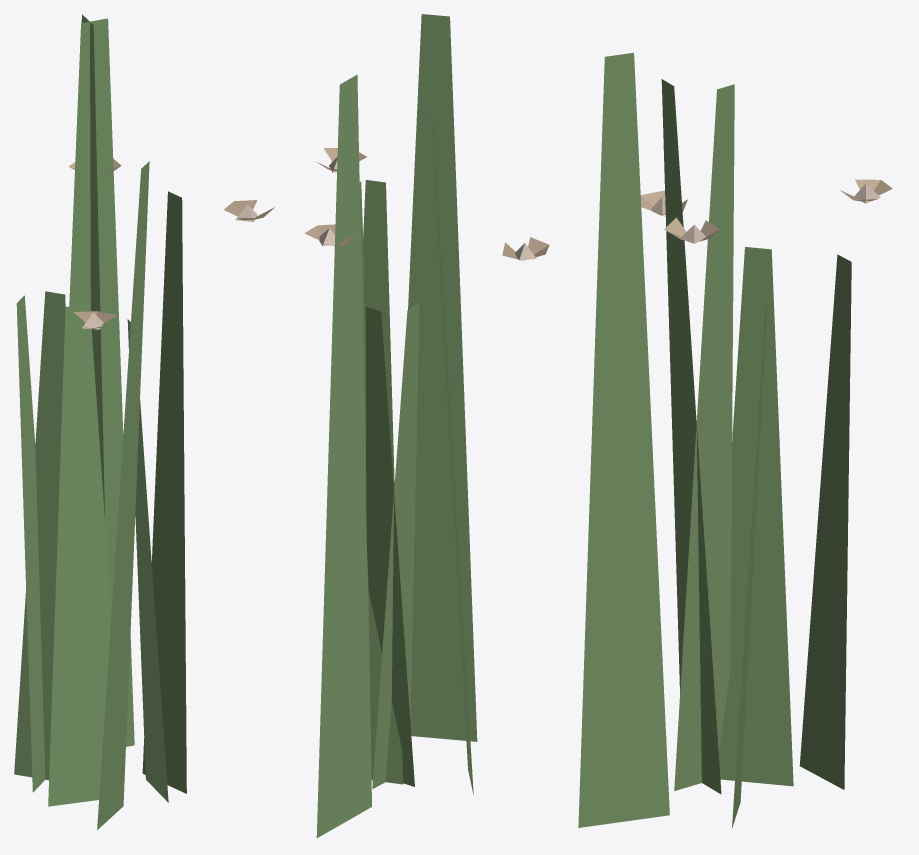
File: shui.pucao__spring.glb
The picture shows the model from 3 angles, left to right: view 1: azimuth 30°, elevation 25°; view 2: azimuth 150°, elevation 25°; view 3: azimuth 270°, elevation 25°; orthographic projection. The views are drawn at different scales.
Visible parts, largest first — view 1: shui.pucao__spring; view 2: shui.pucao__spring; view 3: shui.pucao__spring.
Boxes of the visible parts, x1,y1,x2,y2 form: shui.pucao__spring: [14, 14, 274, 829]; shui.pucao__spring: [304, 14, 549, 838]; shui.pucao__spring: [578, 52, 892, 828].
Bounding box in the file's own units: 0.6381 × 2.11 × 0.7877.
